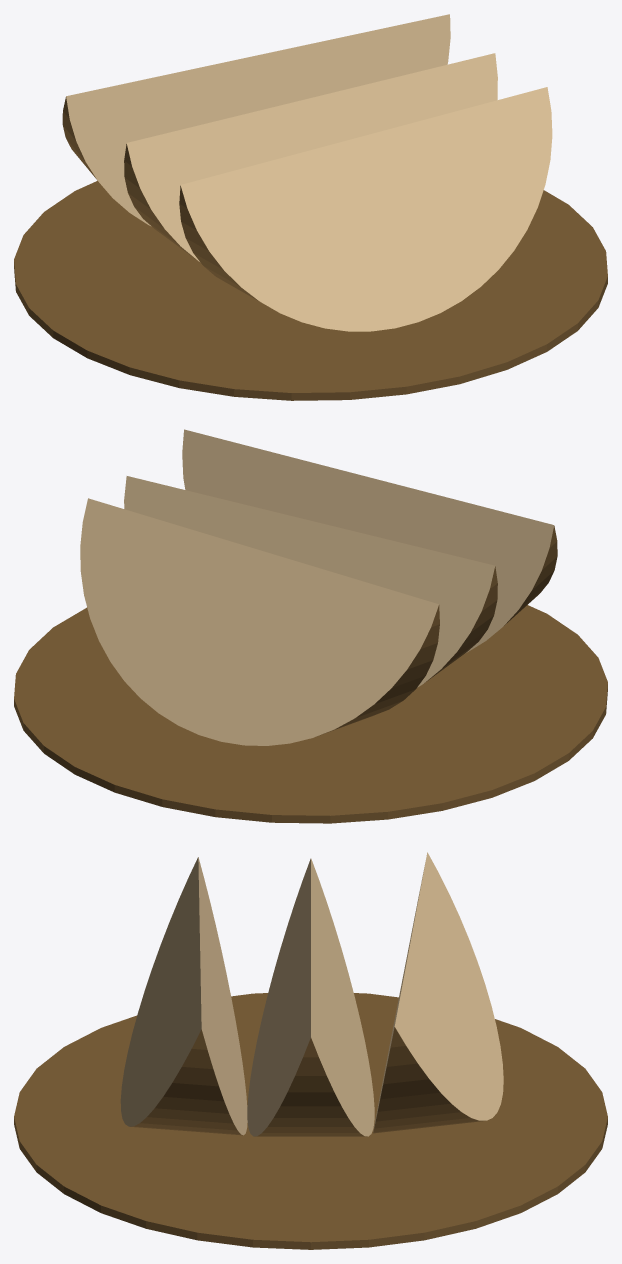
Rendered from PotatoCut.fbx.
The picture shows the model from 3 angles, top to bottom: view 1: azimuth 30°, elevation 25°; view 2: azimuth 150°, elevation 25°; view 3: azimuth 270°, elevation 25°; orthographic projection.
Visible parts, largest first — view 1: Sphere.001; view 2: Sphere.001; view 3: Sphere.001.
Boxes of the visible parts, left/top/right/bottom form: Sphere.001: left=14, top=14, right=607, bottom=400; Sphere.001: left=14, top=429, right=607, bottom=823; Sphere.001: left=14, top=852, right=607, bottom=1249.
Size of the model in its own units: 2.8 by 0.966 by 2.8.
